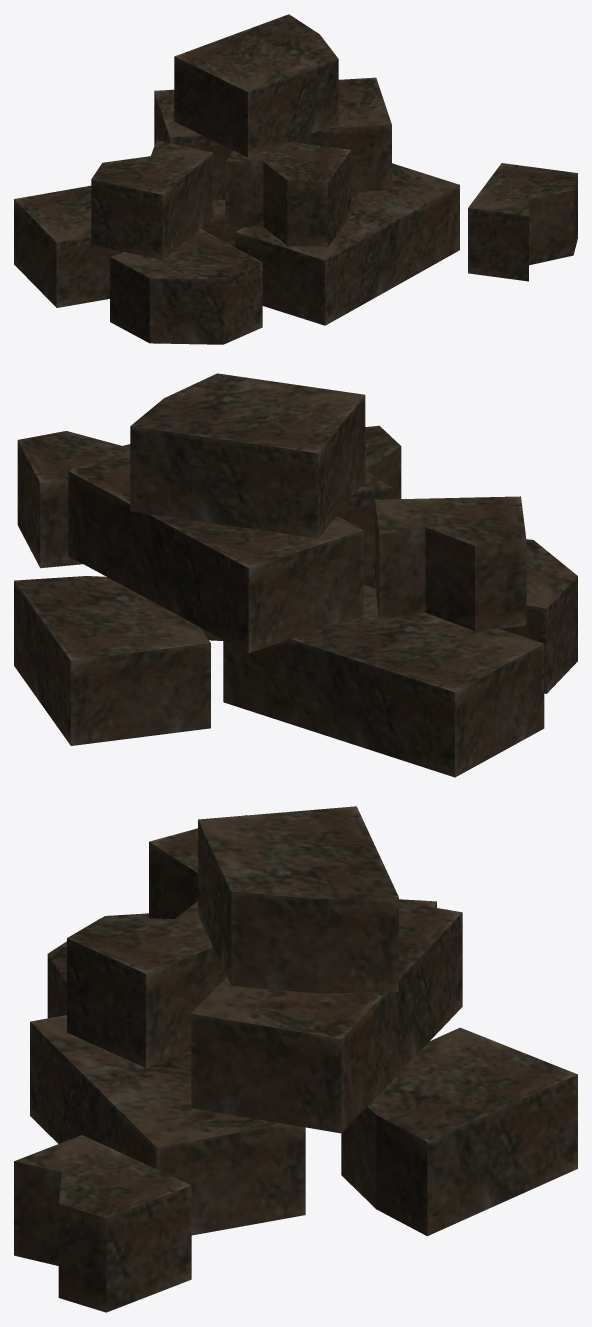
Rendered from bricks_stacked_mx_2_0.dae.
3 views of the same model, one above another, from view 1: azimuth 30°, elevation 25°; view 2: azimuth 150°, elevation 25°; view 3: azimuth 270°, elevation 25° (orthographic). The views are drawn at different scales.
Visible parts, largest first — view 1: bricks_stacked_mx_2_0; view 2: bricks_stacked_mx_2_0; view 3: bricks_stacked_mx_2_0.
Boxes of the visible parts, x1=… form: bricks_stacked_mx_2_0: x1=14, y1=14, x2=577, y2=344; bricks_stacked_mx_2_0: x1=14, y1=373, x2=577, y2=777; bricks_stacked_mx_2_0: x1=14, y1=806, x2=577, y2=1312.
Size of the model in its own units: 0.667 by 0.4878 by 0.27.
Materials: 1 (1 with a texture image).
